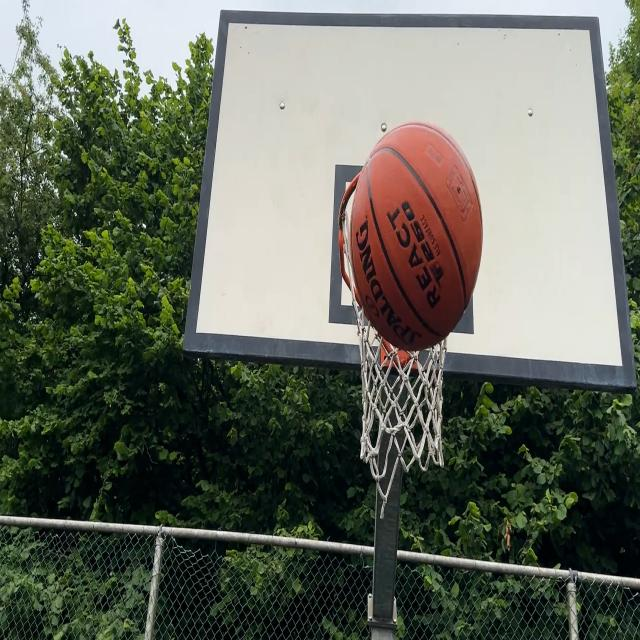Basketball: (340, 127, 482, 356)
